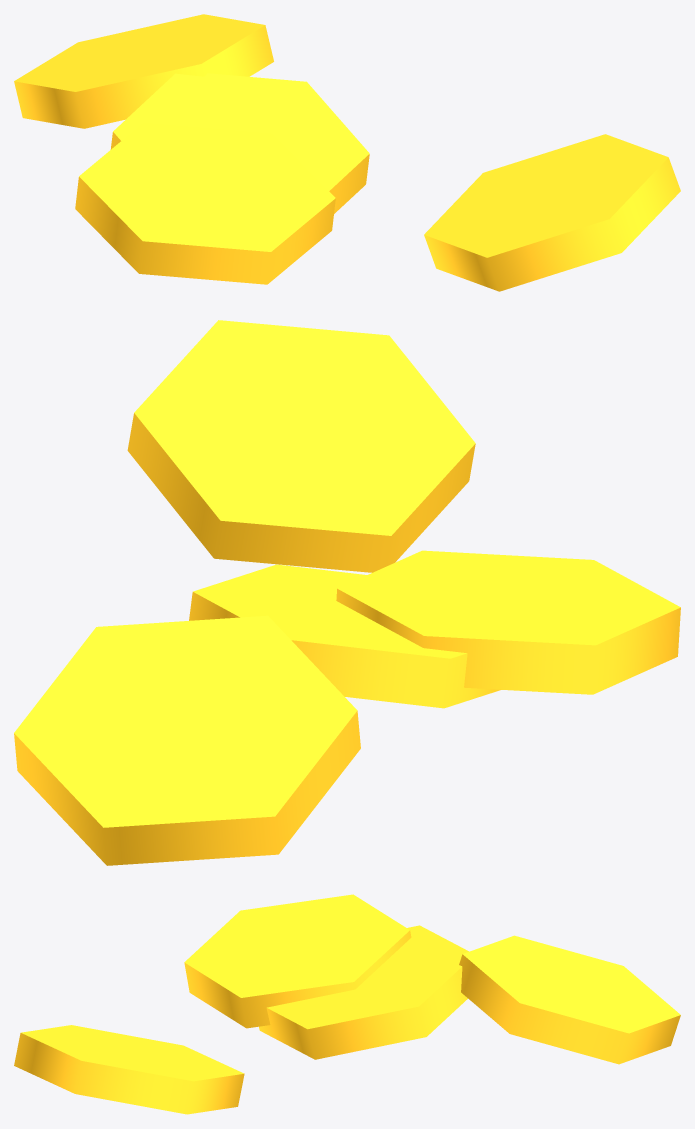
Rendered from gold_small.glb.
The picture shows the model from 3 angles, top to bottom: view 1: azimuth 30°, elevation 25°; view 2: azimuth 150°, elevation 25°; view 3: azimuth 270°, elevation 25°; orthographic projection. The views are drawn at different scales.
Parts seen in each view (by area): view 1: item_gold; view 2: item_gold; view 3: item_gold.
Boxes of the visible parts, x1,y1,x2,y2 form: item_gold: (14,14,680,291); item_gold: (14,320,680,865); item_gold: (14,894,680,1114).
Bounding box in the file's own units: 0.2392 × 0.055 × 0.3501.
